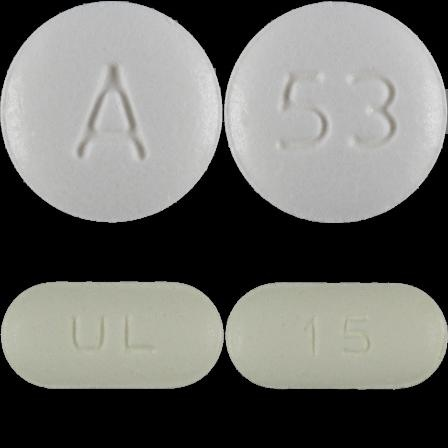10544-554: (0, 0, 224, 224)
